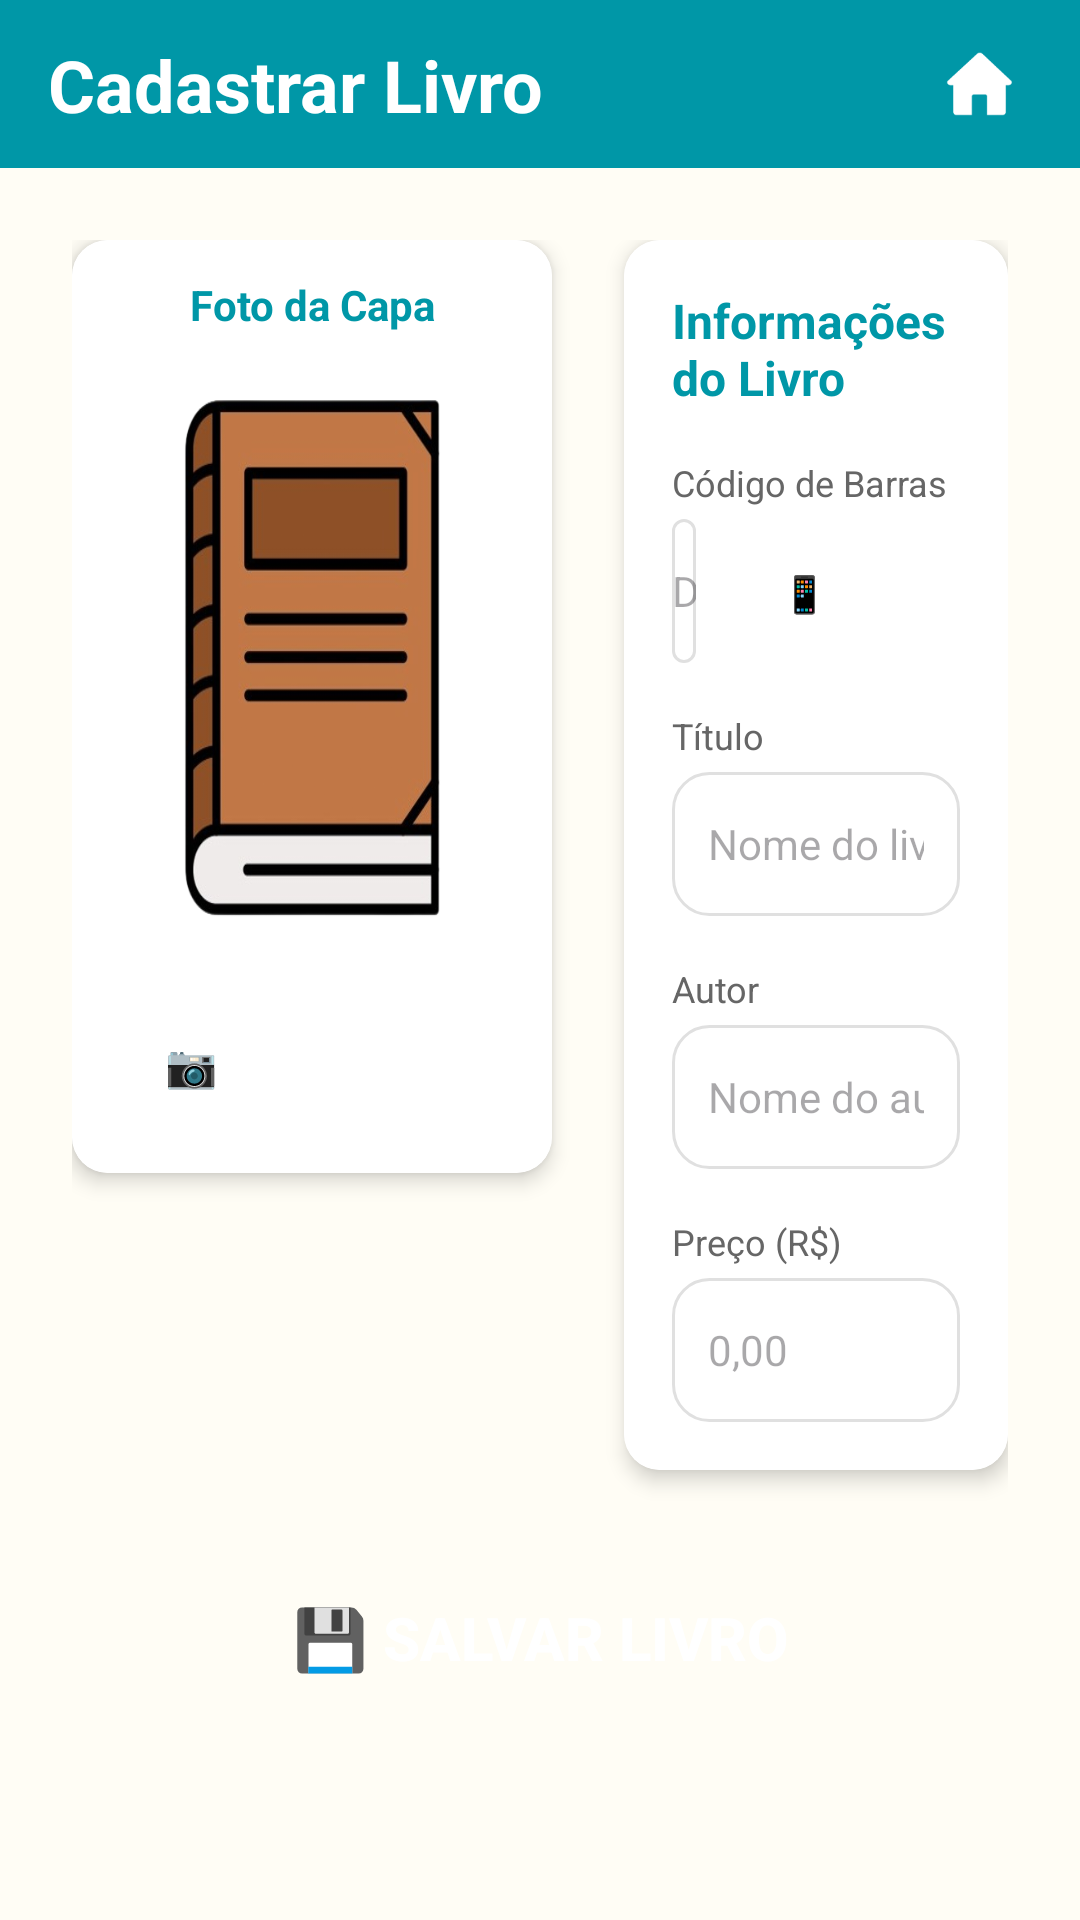

Icons on this 1080px x 1920px Android screen, each with its box as (x1, y1, x2, y2):
home: (947, 52, 1012, 116)
